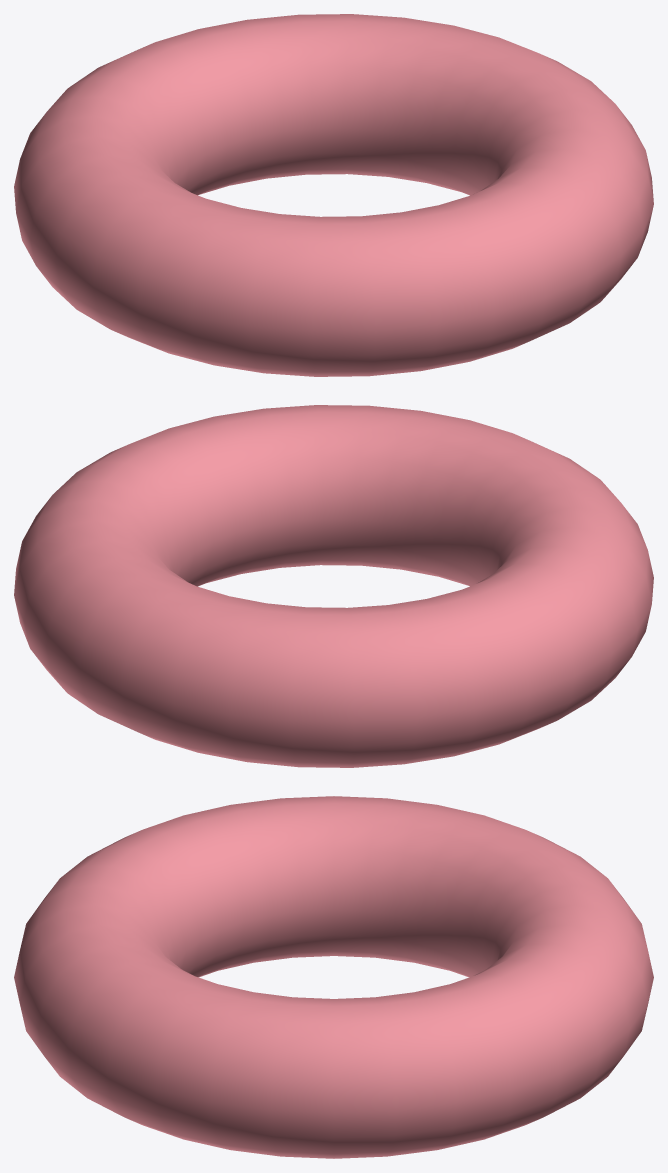
3 renders of one model, top to bottom at view 1: azimuth 30°, elevation 25°; view 2: azimuth 150°, elevation 25°; view 3: azimuth 270°, elevation 25°, orthographic.
Visible parts, largest first — view 1: Torus; view 2: Torus; view 3: Torus.
Part boxes in pixels (x1,y1,x2,y2): Torus: (14,14,653,376); Torus: (14,405,653,767); Torus: (14,796,653,1158).
Size of the model in its own units: 1.2 by 0.3 by 1.2.
